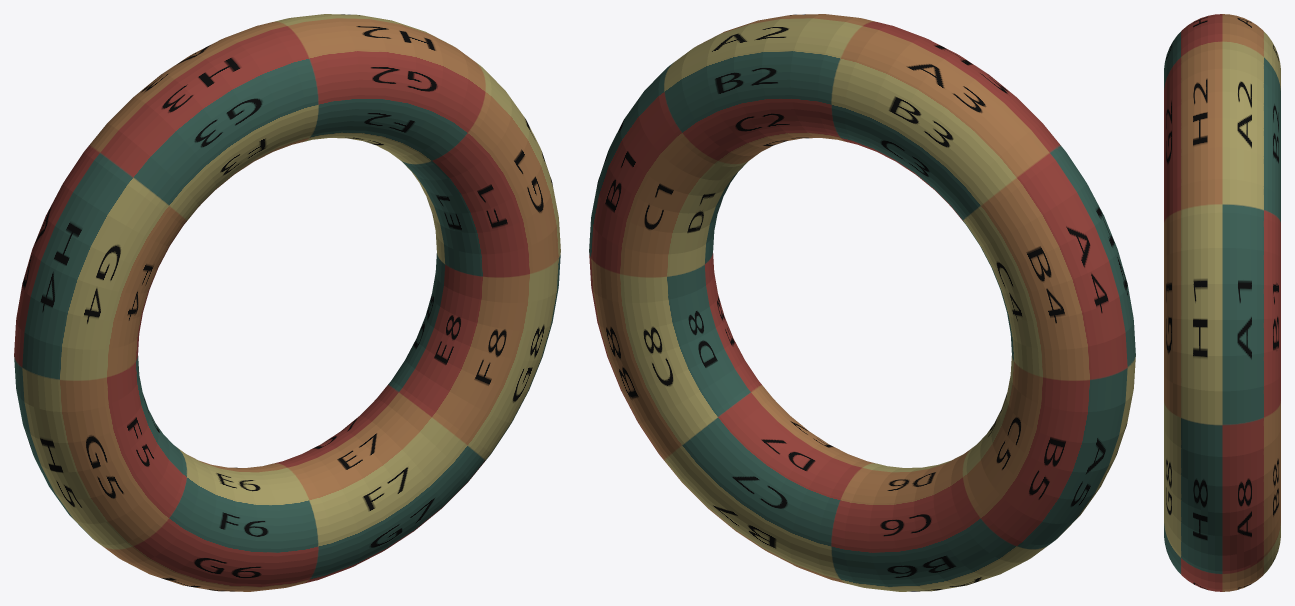
The model's file is texture_torus_R22_r16.glb.
3 renders of one model, left to right at view 1: azimuth 30°, elevation 25°; view 2: azimuth 150°, elevation 25°; view 3: azimuth 270°, elevation 25°, orthographic. The views are drawn at different scales.
Parts seen in each view (by area): view 1: world; view 2: world; view 3: world.
Boxes of the visible parts, x1,y1,x2,y2 form: world: [14, 14, 560, 591]; world: [589, 14, 1135, 591]; world: [1164, 14, 1280, 591].
Size of the model in its own units: 30.93 by 30.87 by 6.25.
Materials: 1 (1 with a texture image).
